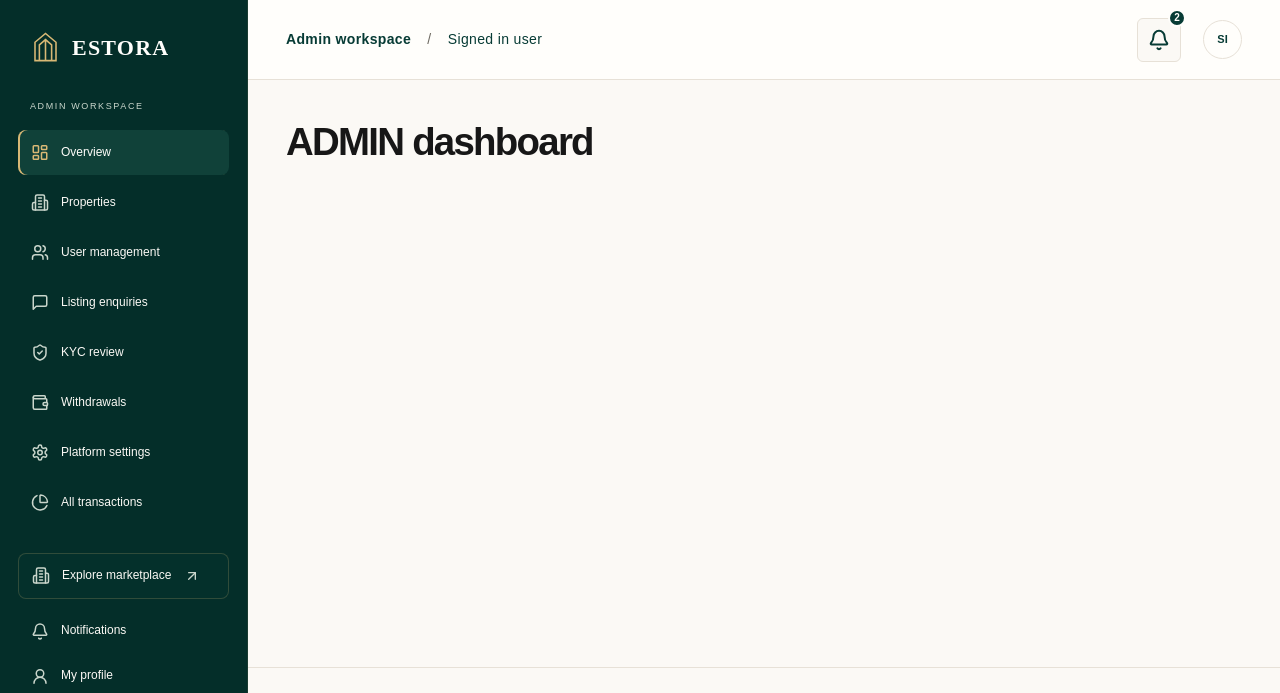
Scenario: session-aware workspace layout › ADMIN retains the same sidebar and header while exploring properties and details
Click the link "Explore marketplace" at (124, 576), box x1=18 y1=553 x2=229 y2=599
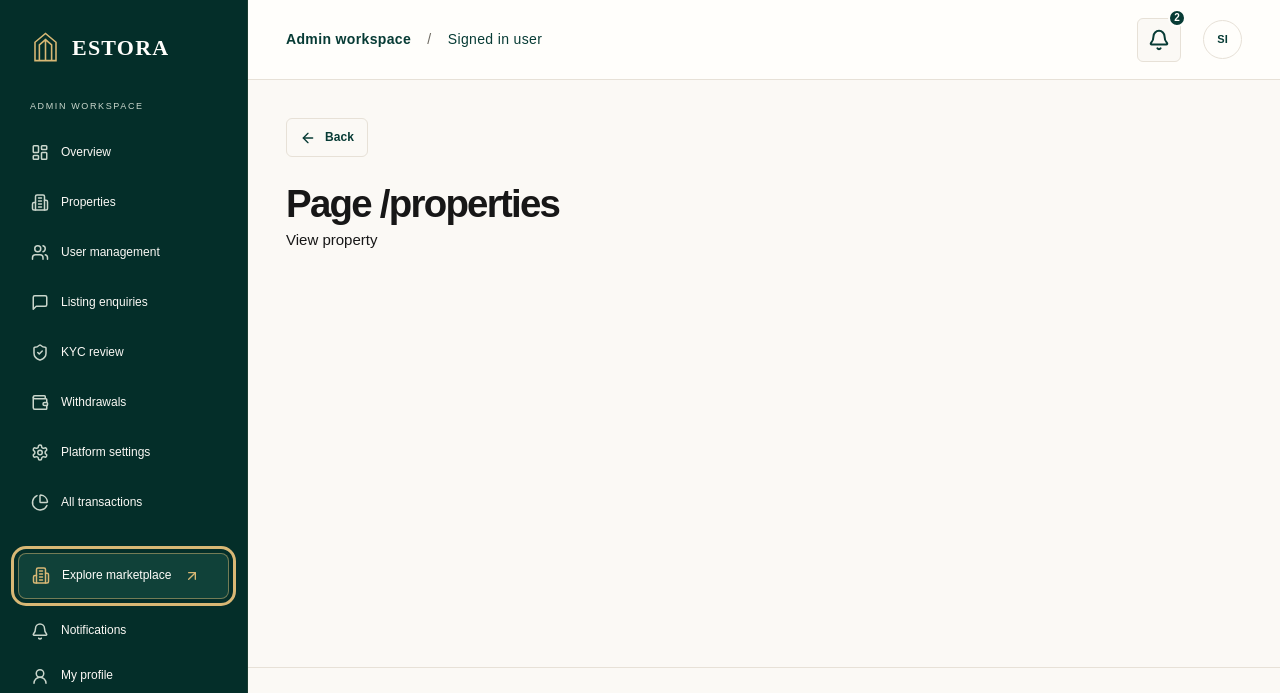
Result: the heading "Page /properties" is shown at x1=286 y1=182 x2=559 y2=225
Click the link "View property" at (332, 240), box x1=286 y1=231 x2=377 y2=248
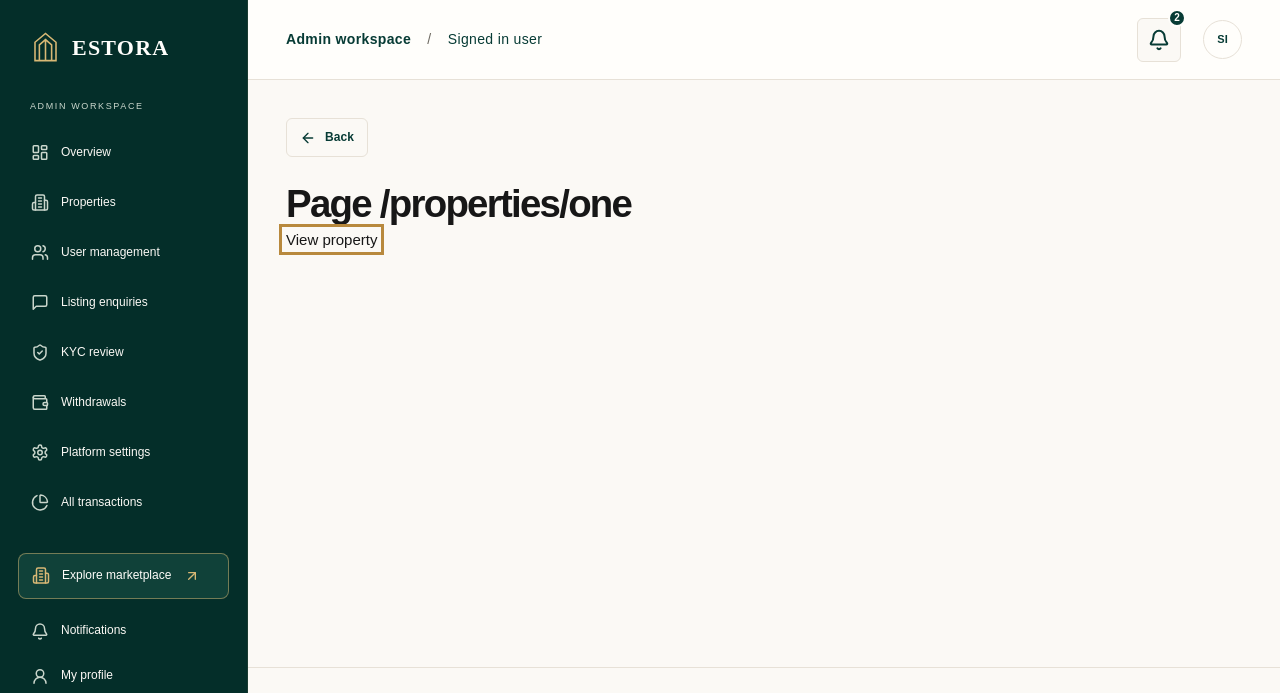
Result: the heading "Page /properties/one" is shown at x1=286 y1=182 x2=631 y2=225
